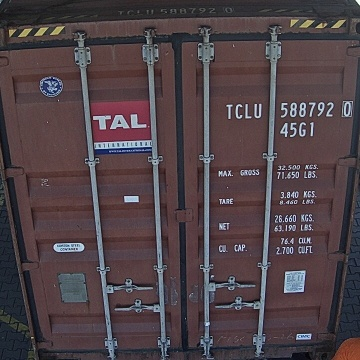serial_id: (226, 101, 352, 118)
